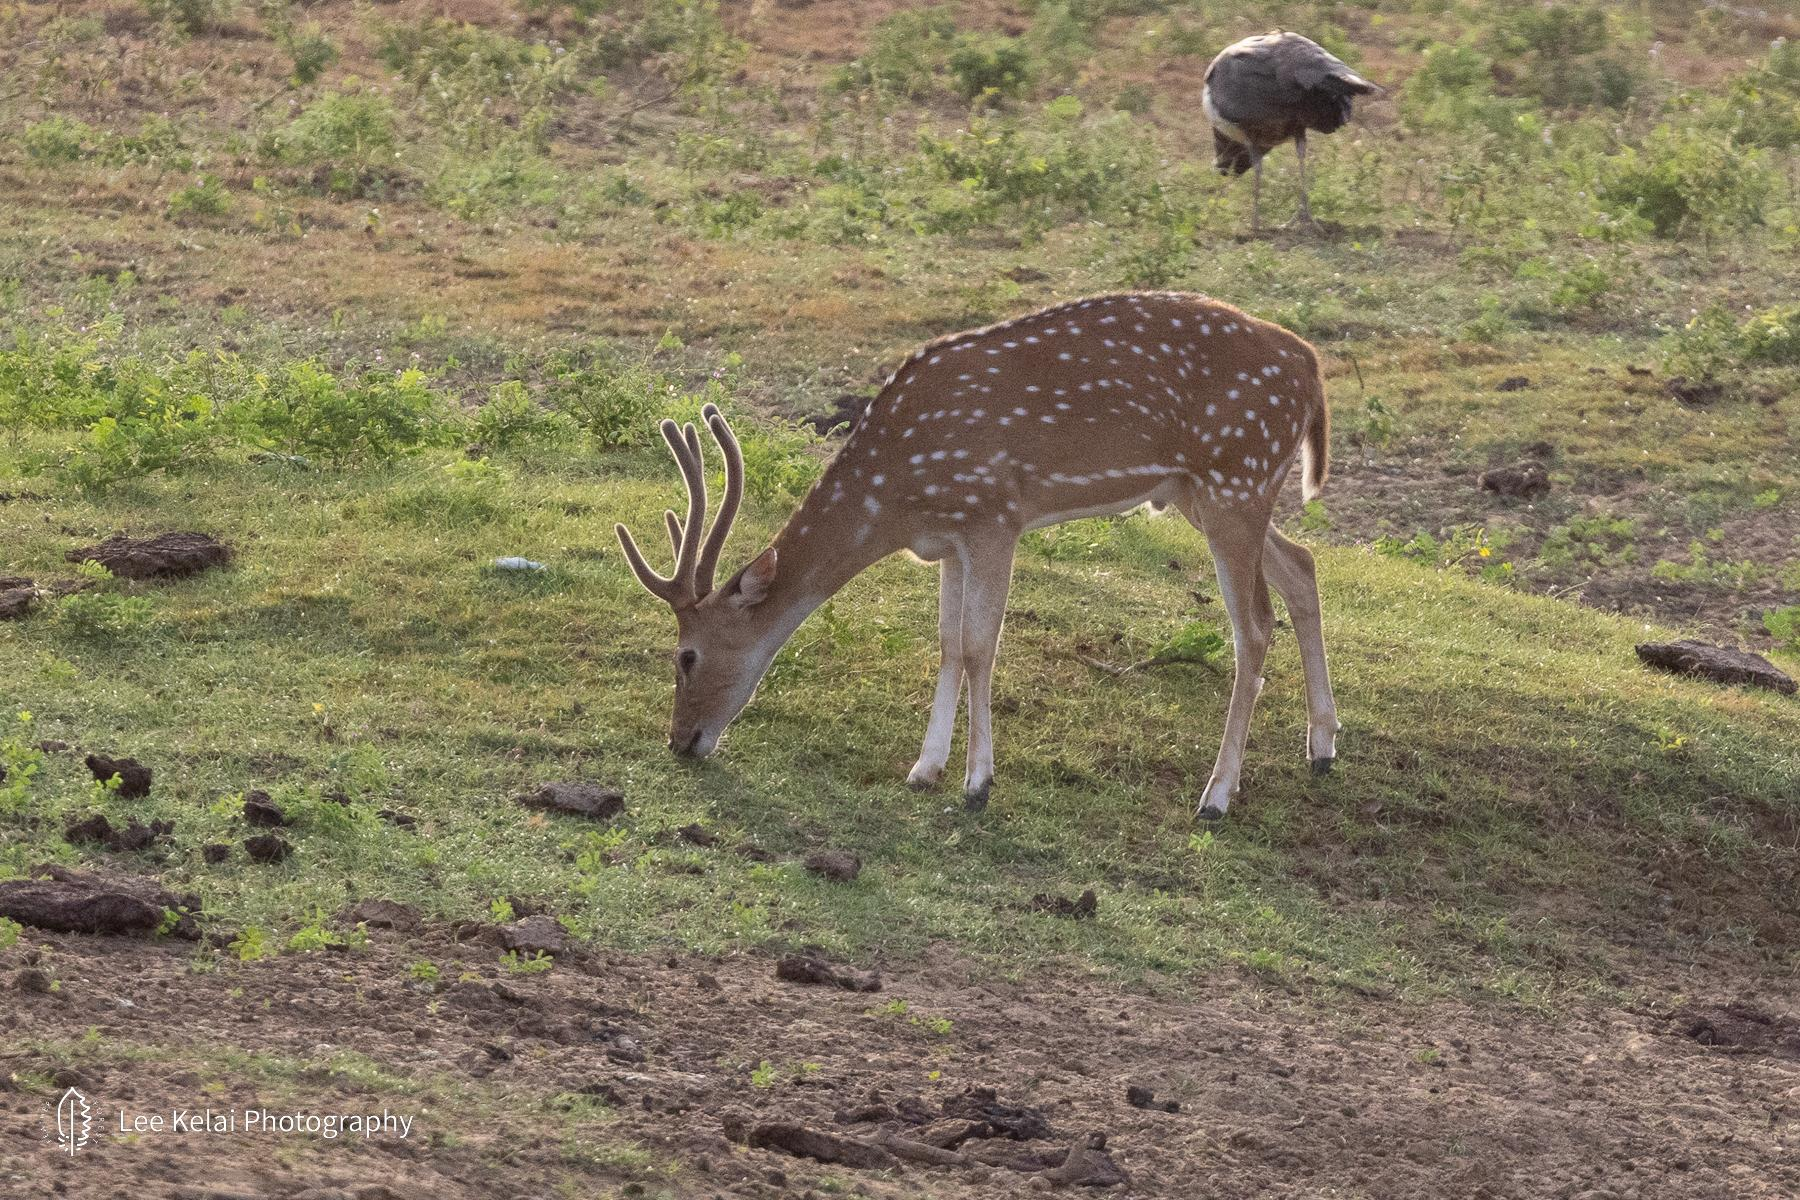Deer: (615, 292, 1338, 817)
